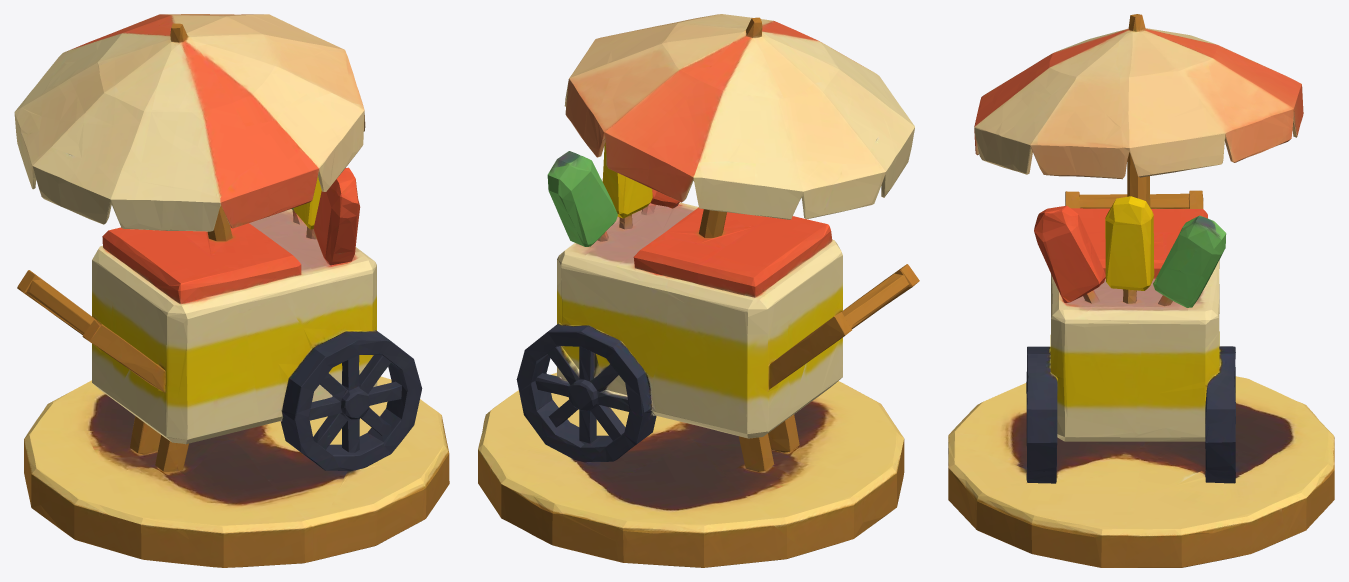
The model's file is rio-picole.glb.
3 views of the same model, side by side, from view 1: azimuth 30°, elevation 25°; view 2: azimuth 150°, elevation 25°; view 3: azimuth 270°, elevation 25° (orthographic). The views are drawn at different scales.
Parts seen in each view (by area): view 1: tripo_node_8c093a48-bdfa-40a1-a1ed-71110eddcce3; view 2: tripo_node_8c093a48-bdfa-40a1-a1ed-71110eddcce3; view 3: tripo_node_8c093a48-bdfa-40a1-a1ed-71110eddcce3.
Boxes of the visible parts, x1=… form: tripo_node_8c093a48-bdfa-40a1-a1ed-71110eddcce3: x1=14, y1=14, x2=449, y2=567; tripo_node_8c093a48-bdfa-40a1-a1ed-71110eddcce3: x1=478, y1=14, x2=919, y2=567; tripo_node_8c093a48-bdfa-40a1-a1ed-71110eddcce3: x1=948, y1=14, x2=1334, y2=567.
Size of the model in its own units: 0.8492 by 0.9989 by 0.7933.
1 material, 1 textured.
